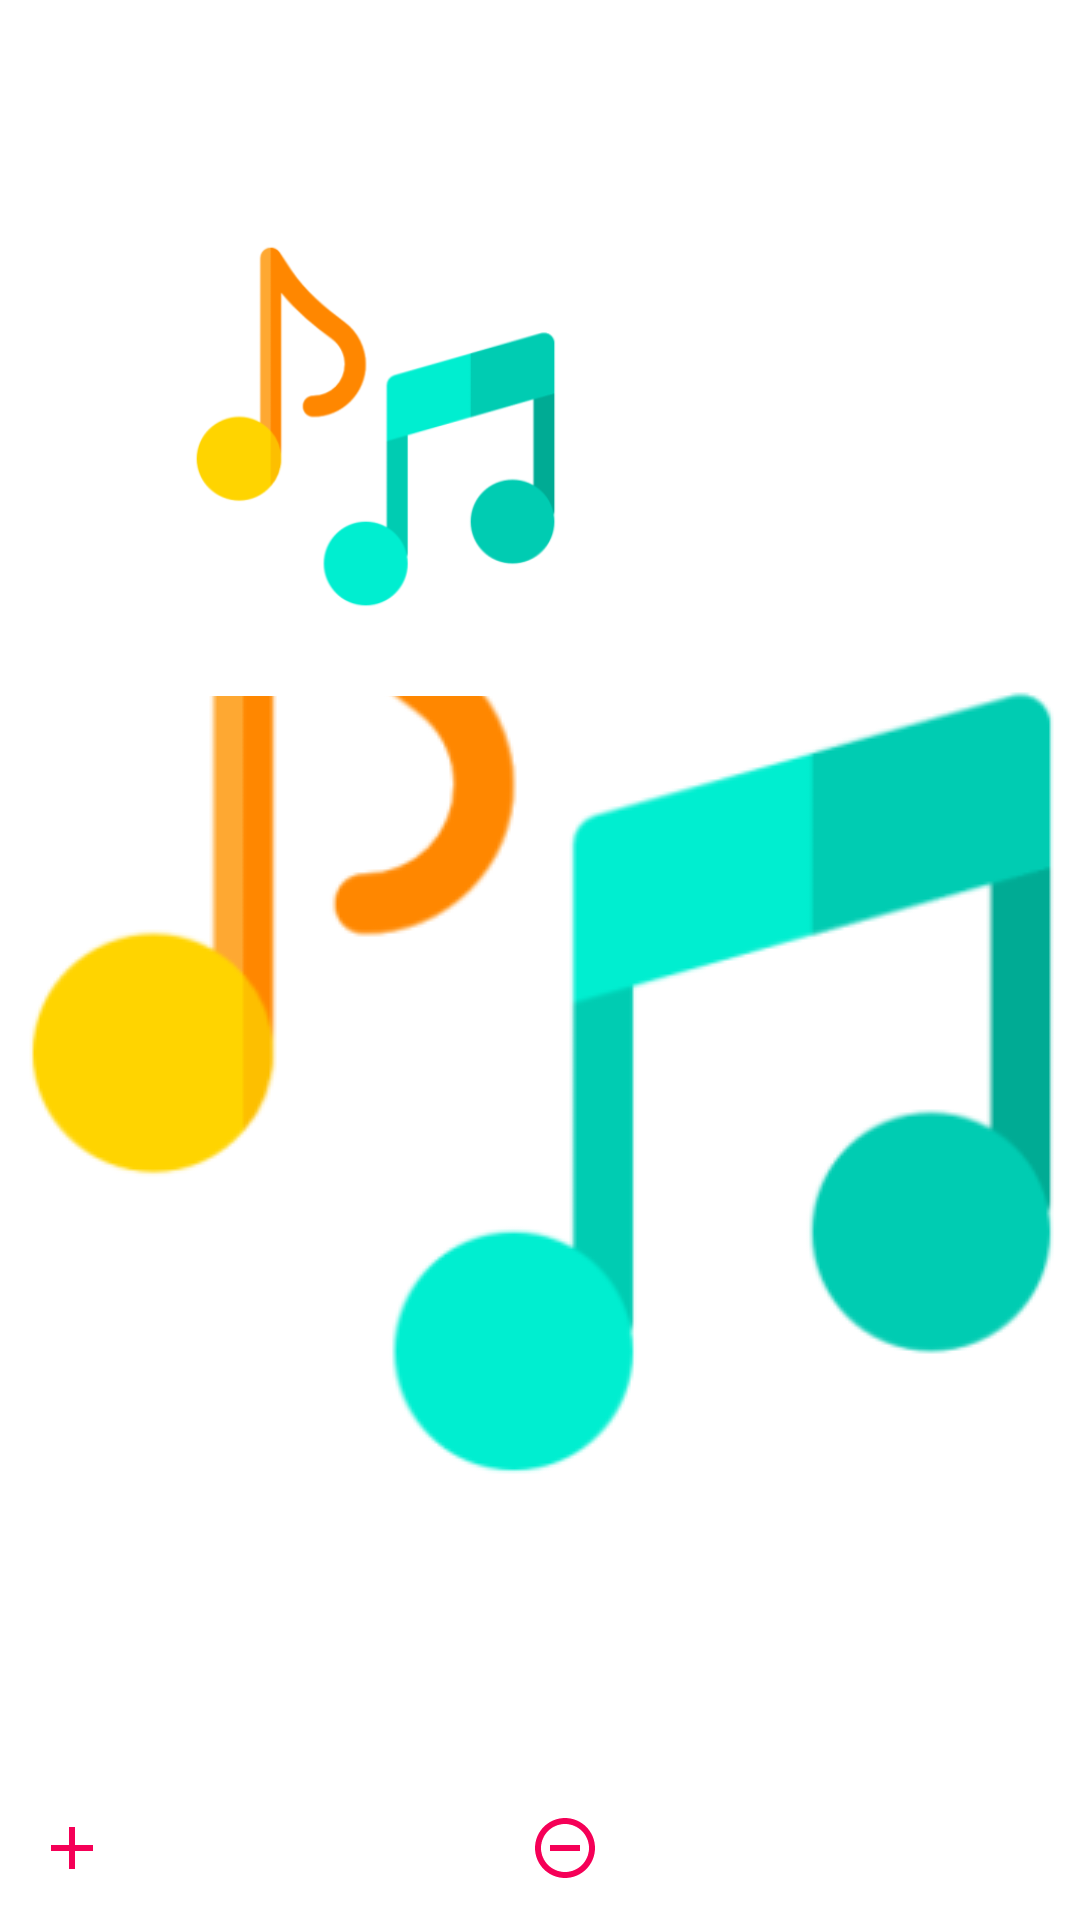

Screen size 1080×1920. Icon name, then its box in pixels as {"left": x1, "top": y1, "right": x2, "bottom": y2}:
music player slash screen: {"left": 196, "top": 247, "right": 555, "bottom": 606}
